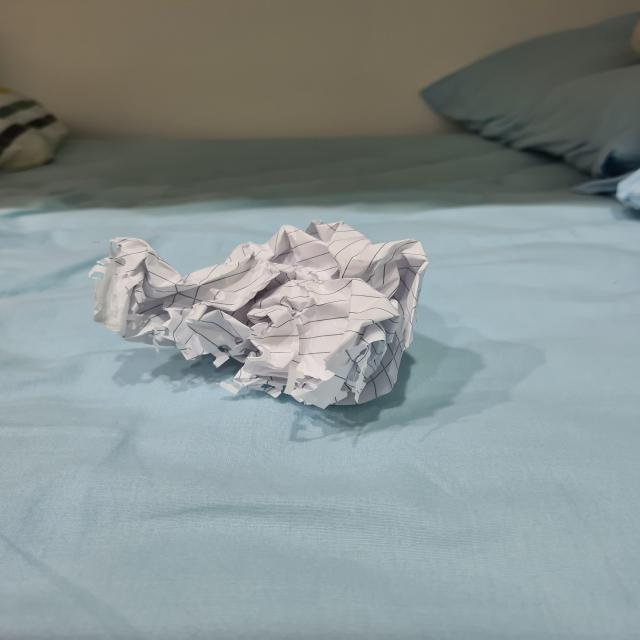cardboard paper: (90, 221, 426, 406)
